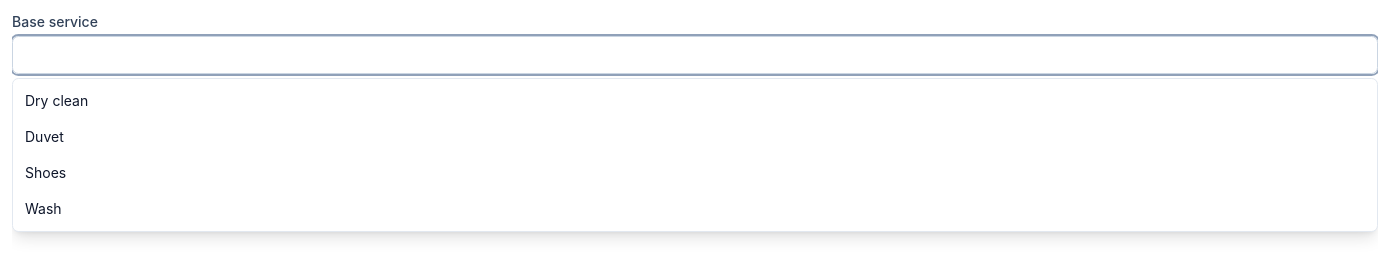
Test case: LaundryServicesEditor › case 4: PER_ITEM shows a numeric count input holding 1, and no rate
The width and height of the screenshot is (1390, 258).
Expected: the dropdown with id "laundry-base-service" is shown, [12,36,1378,74]
Click the option "Shoes". click: (46, 172)
box: [25,164,66,181]
Wait 900 ms
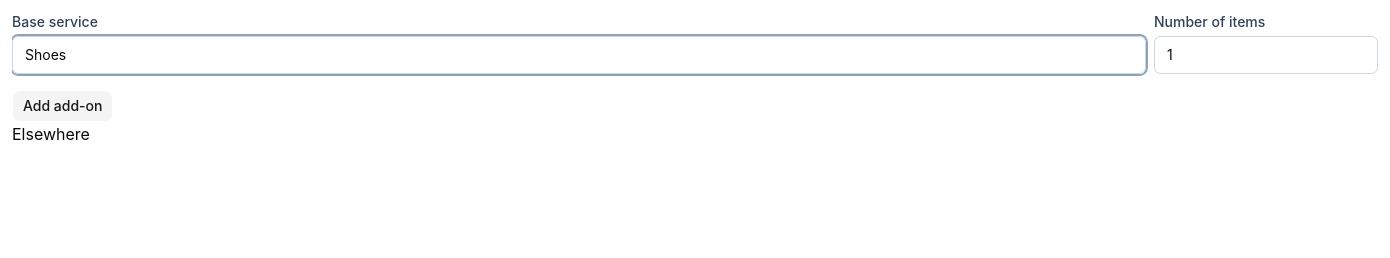
Expected: the field with id "laundry-base-count" holds "1", [1154,36,1378,74]
Now the field with id "laundry-base-count" is shown, box [1154,36,1378,74]
Now the label "Number of items" is shown, box [1154,13,1265,30]
